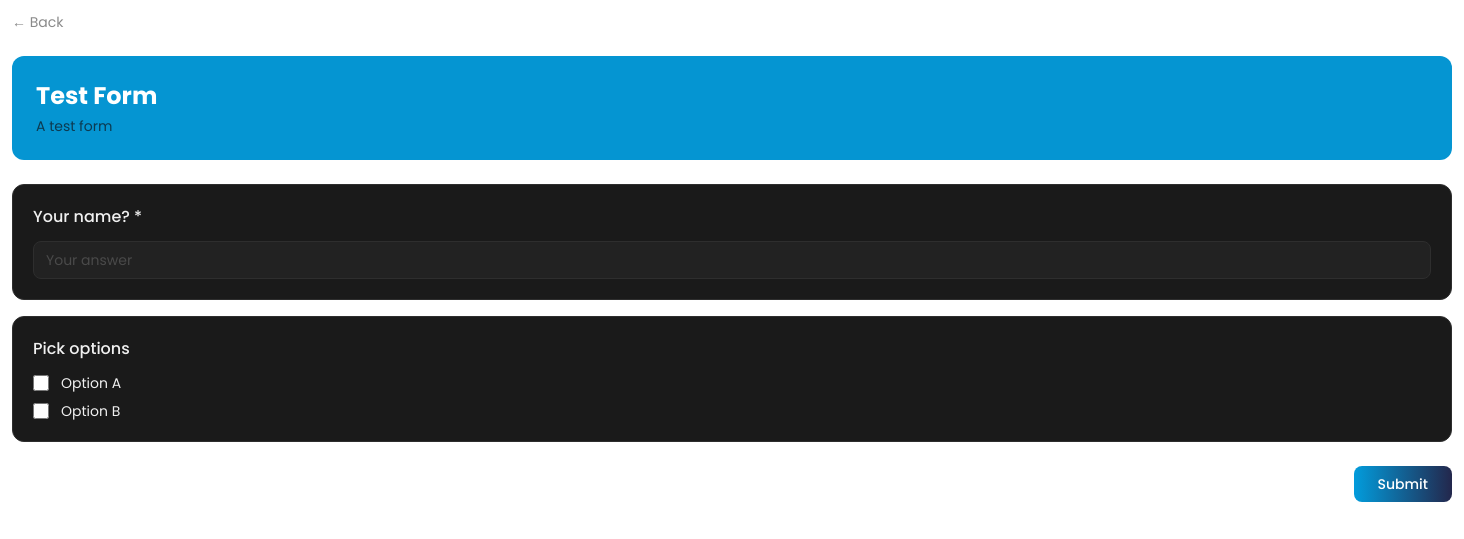
FormFillerPage › validation › shows validation error when required field is empty on submit
Click the button "Submit" at point(1403, 484), box [1354,466,1452,502]
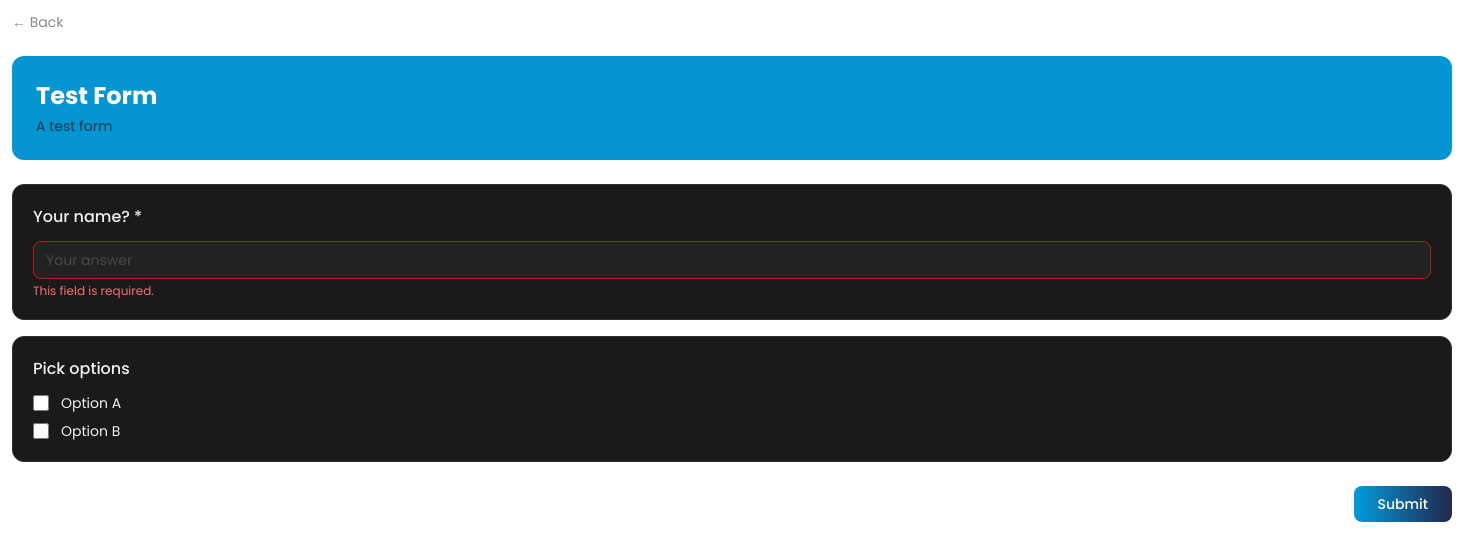
Result: the text "This field is required." is shown at [33,282,154,299]
